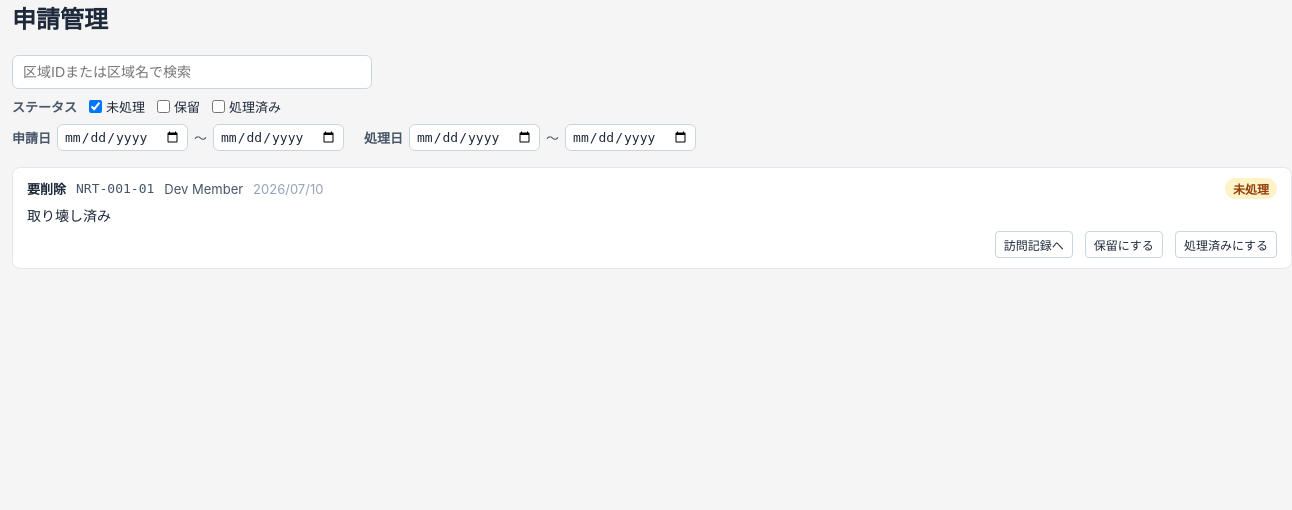
Test: RequestsPage 申請一覧 › 申請日の期間で絞り込める
Expected: the text "取り壊し済み" is shown, [27,207,111,224]
Click the checkbox labelled "保留" at (164, 106), box [157,100,170,113]
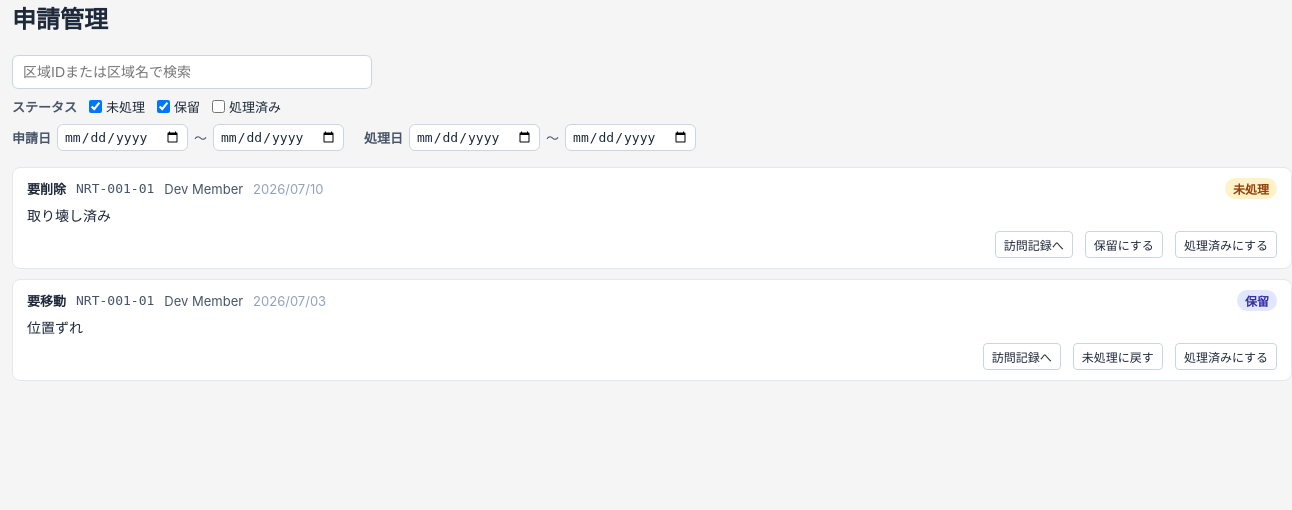
Click the checkbox labelled "処理済み" at (218, 106), box [212,100,225,113]
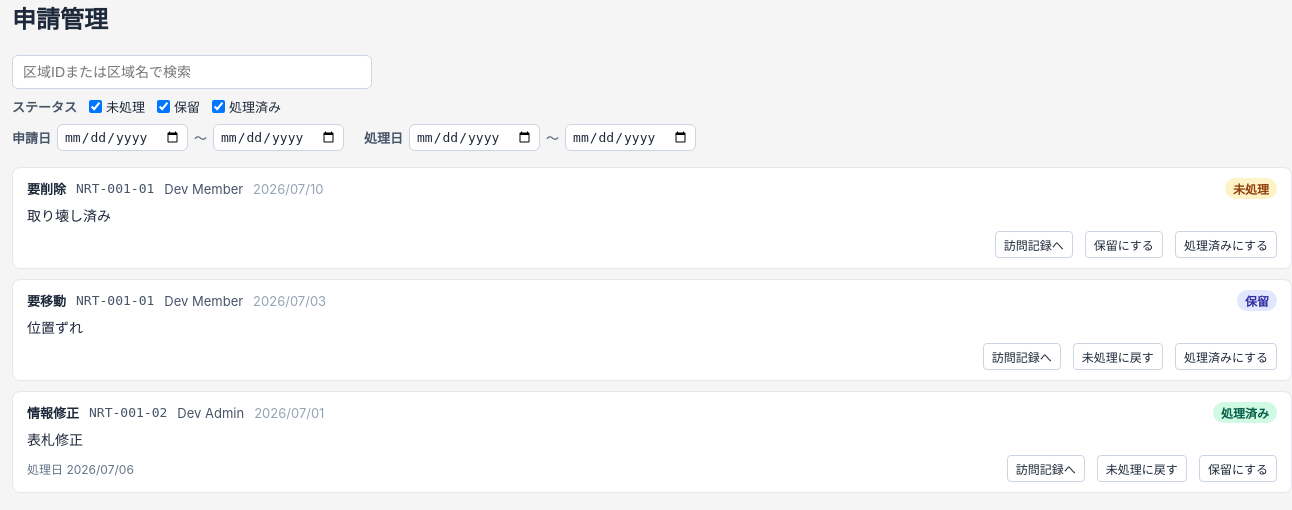
Type "2026-07-02" into the date field named "申請日（から）" at (122, 138), box [57,124,188,151]
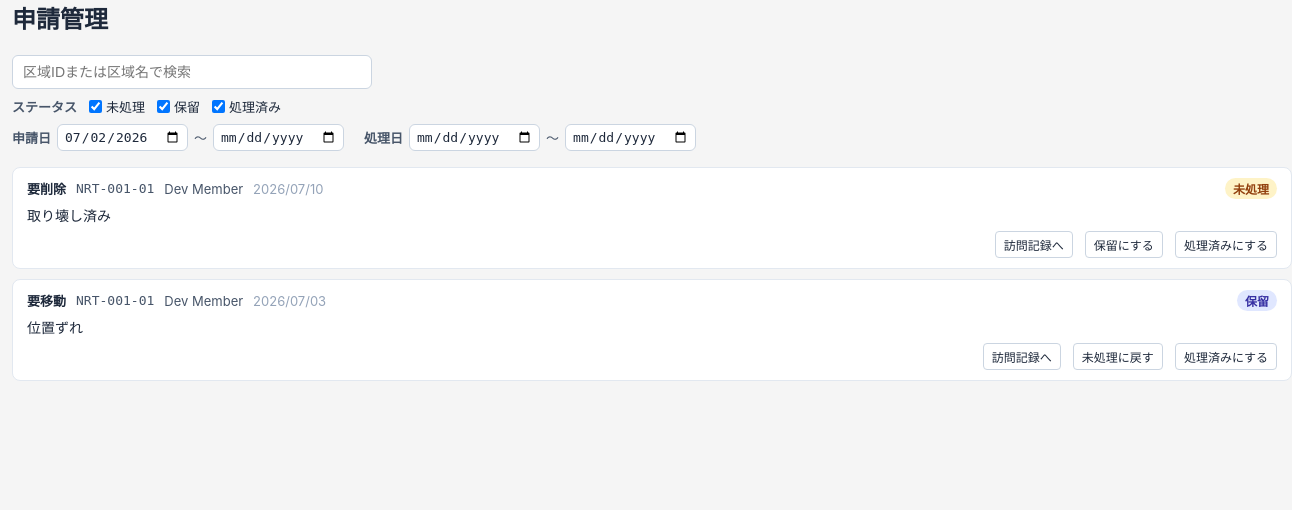
Type "2026-07-05" into the date field named "申請日（まで）" at (278, 138), box [213,124,344,151]
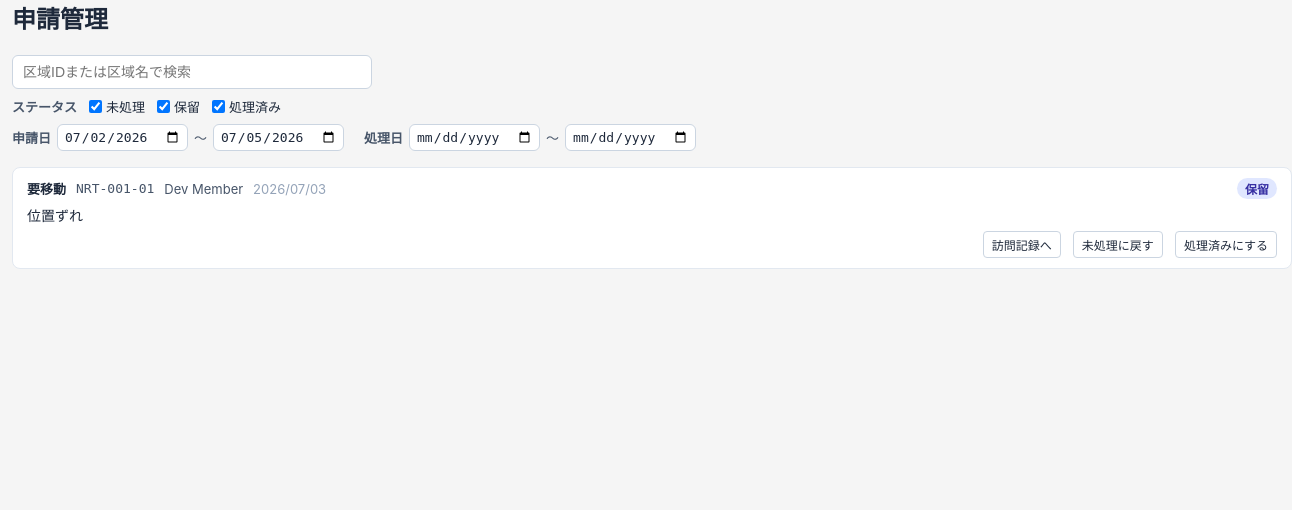
Expected: the text "位置ずれ" is shown, [27,207,83,224]
Expected: the number of list items with test id "request-row" is 1, [12,167,1291,269]
